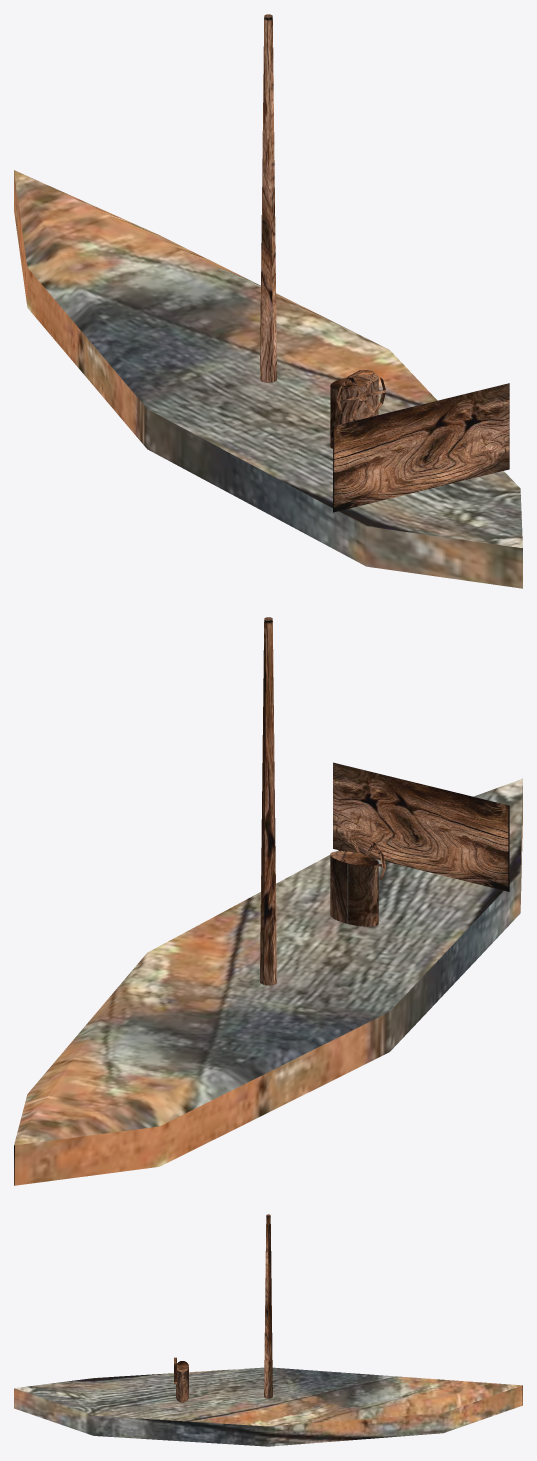
Rendered from boat_v1.glb.
The picture shows the model from 3 angles, top to bottom: view 1: azimuth 30°, elevation 25°; view 2: azimuth 150°, elevation 25°; view 3: azimuth 270°, elevation 25°; orthographic projection. The views are drawn at different scales.
Visible parts, largest first — view 1: ship_hull_col, ship_cabin_wall_nocol, ship_mast_col, Cylinder, ship_wheel_decor; view 2: ship_hull_col, ship_cabin_wall_nocol, ship_mast_col, Cylinder; view 3: ship_hull_col, ship_mast_col, Cylinder.
Boxes of the visible parts, x1,y1,x2,y2 form: ship_hull_col: (14,170,522,588); ship_cabin_wall_nocol: (333,383,509,512); ship_mast_col: (260,14,276,382); Cylinder: (330,374,378,448); ship_wheel_decor: (337,370,386,420); ship_hull_col: (14,779,522,1185); ship_cabin_wall_nocol: (333,762,509,891); ship_mast_col: (260,617,276,985); Cylinder: (330,851,378,926); ship_hull_col: (14,1367,522,1446); ship_mast_col: (264,1214,272,1398); Cylinder: (176,1361,188,1402).
Bounding box in the file's own units: 4.4 × 7.25 × 16.
5 materials, 5 textured.
